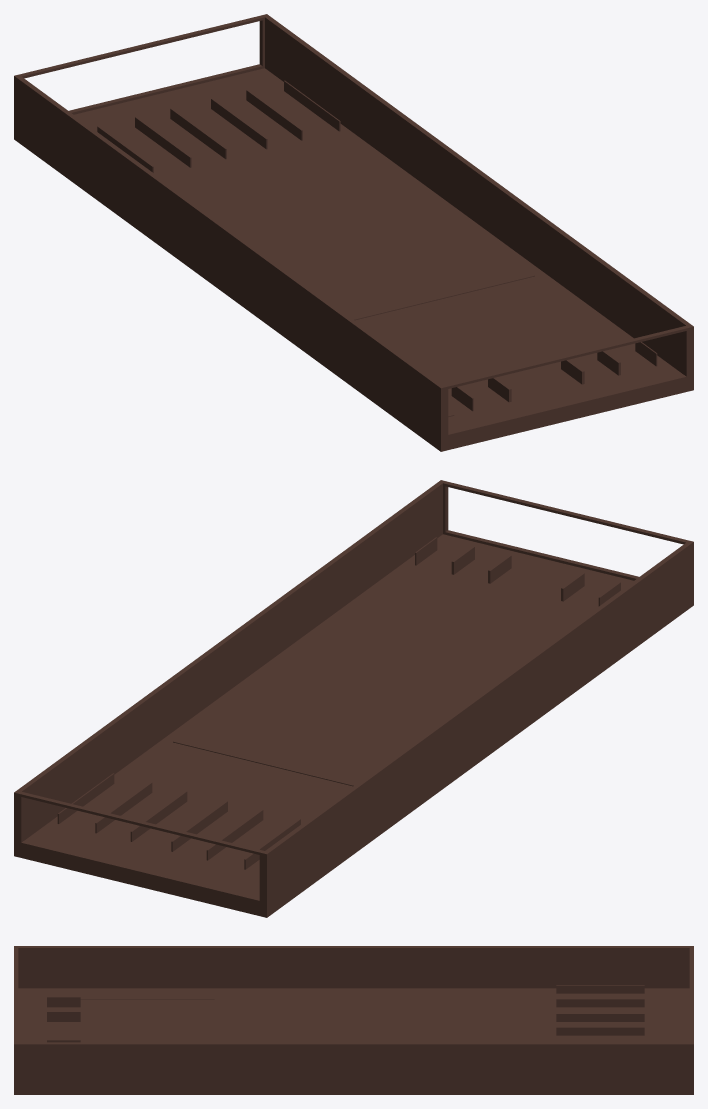
File: Warehouse_version_2.obj
The picture shows the model from 3 angles, top to bottom: view 1: azimuth 30°, elevation 25°; view 2: azimuth 150°, elevation 25°; view 3: azimuth 270°, elevation 25°; orthographic projection. The views are drawn at different scales.
Visible parts, largest first — view 1: Solid1, Solid1:1; view 2: Solid1, Solid1:1; view 3: Solid1, Solid1:1.
Part boxes in pixels (x1=…): Solid1: x1=14, y1=14, x2=693, y2=451; Solid1:1: x1=97, y1=80, x2=657, y2=416; Solid1: x1=14, y1=480, x2=693, y2=917; Solid1:1: x1=57, y1=537, x2=620, y2=869; Solid1: x1=14, y1=946, x2=693, y2=1094; Solid1:1: x1=47, y1=985, x2=644, y2=1042.
Bounding box in the file's own units: 409 × 98.43 × 1197.
